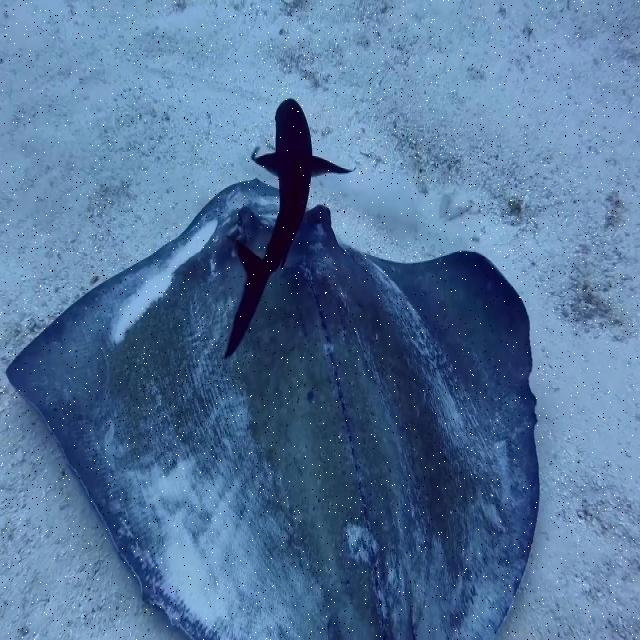fish: (4, 177, 540, 639), (224, 99, 353, 359)
